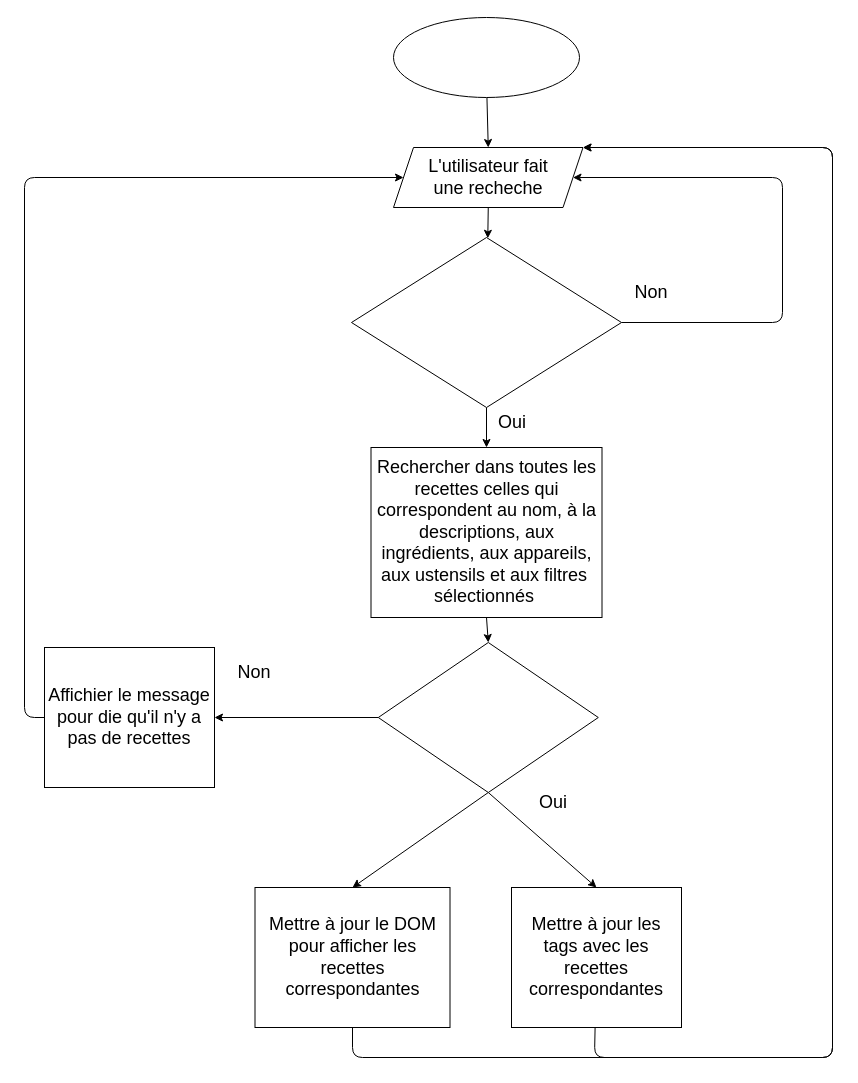
Image size: 858x1083. Some labels were removed from this diagram. Each missing label, with the centre of its shape:
"Début" goes at [486,57].
"Est ce qu'il y a des recettes?" goes at [487,717].
"Est ce que le champs de recherche a plus de 3 caractères?" goes at [486,322].
